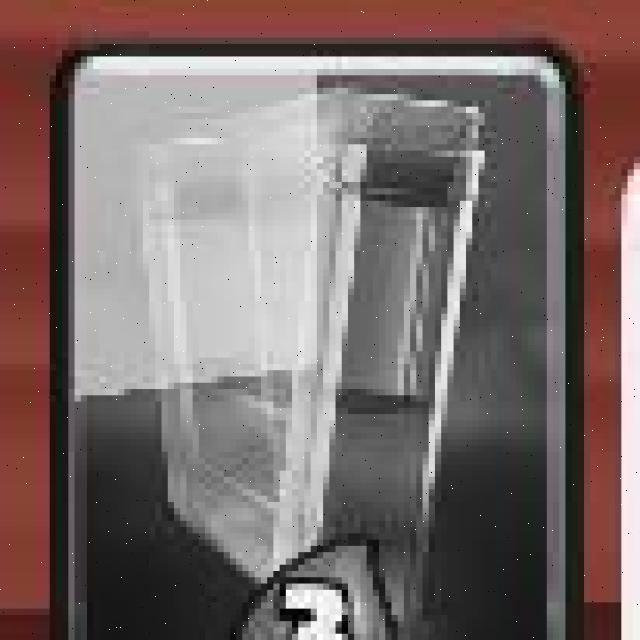Clone_Spell: (45, 24, 588, 640)
